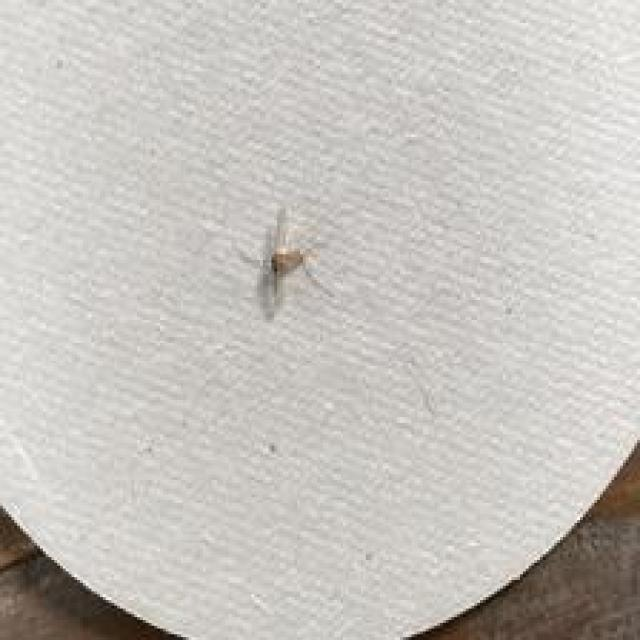Culex: (254, 204, 337, 319)
